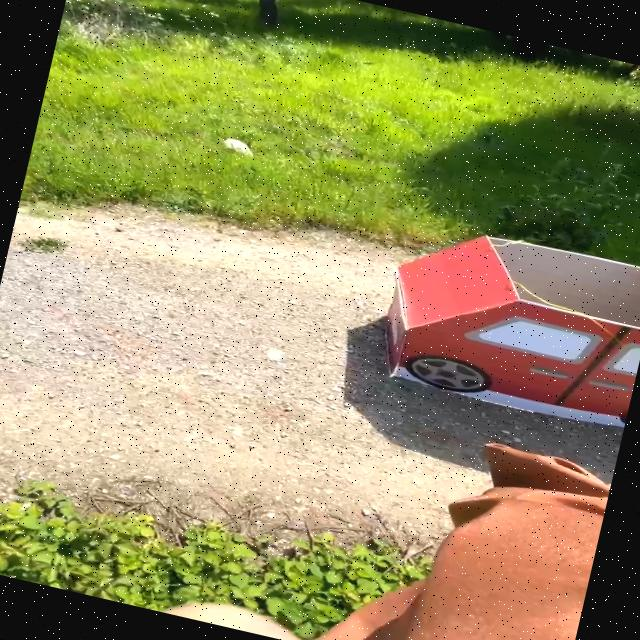red_car: (339, 197, 640, 452)
